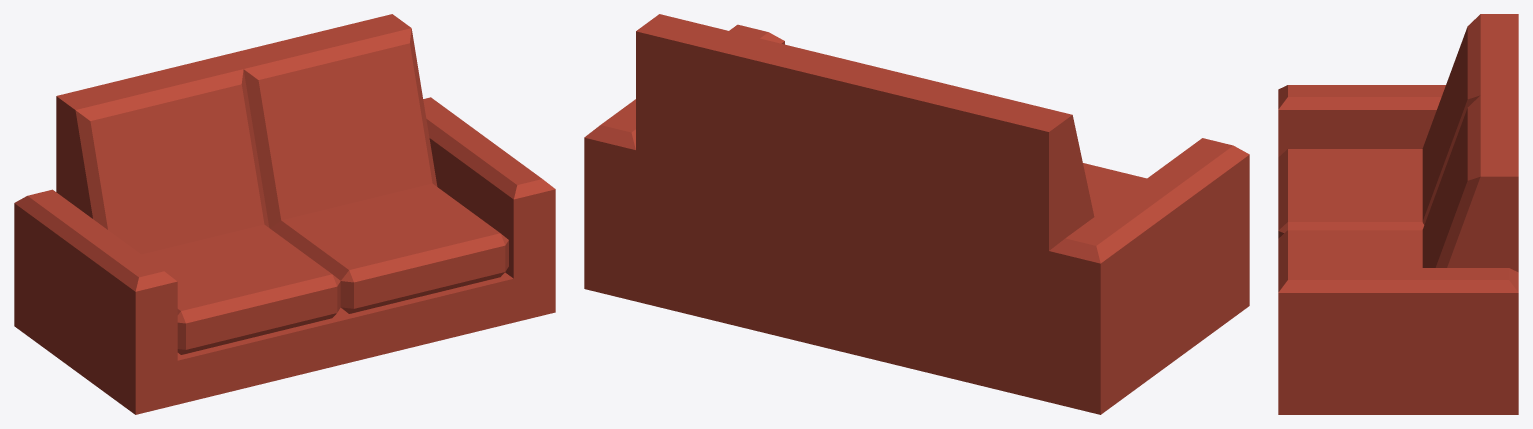
The model's file is Sofa.fbx.
3 views of the same model, side by side, from view 1: azimuth 30°, elevation 25°; view 2: azimuth 150°, elevation 25°; view 3: azimuth 270°, elevation 25° (orthographic). The views are drawn at different scales.
Parts seen in each view (by area): view 1: 立方体; view 2: 立方体; view 3: 立方体.
Boxes of the visible parts, x1=… form: 立方体: x1=14, y1=14, x2=555, y2=414; 立方体: x1=584, y1=14, x2=1249, y2=414; 立方体: x1=1278, y1=14, x2=1518, y2=414.
Size of the model in its own units: 1 by 0.5 by 0.5.
